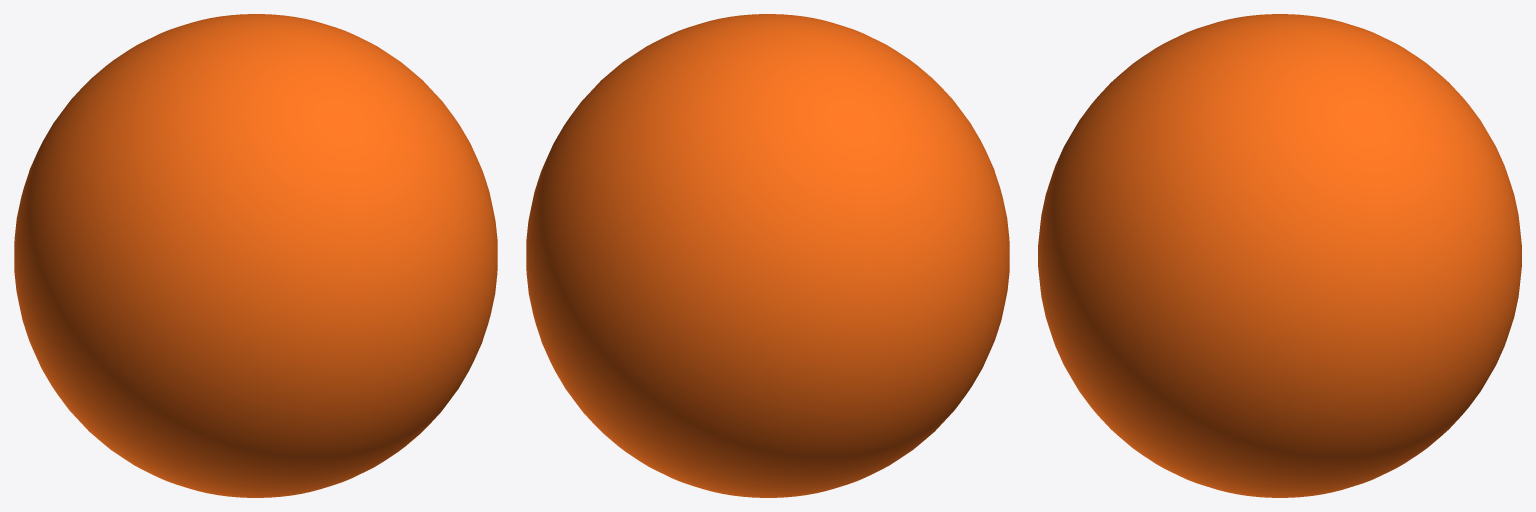
File: PayloadPathPoint.glb
3 views of the same model, side by side, from view 1: azimuth 30°, elevation 25°; view 2: azimuth 150°, elevation 25°; view 3: azimuth 270°, elevation 25° (orthographic).
Parts seen in each view (by area): view 1: Marker; view 2: Marker; view 3: Marker.
Part boxes in pixels (x1=…): Marker: x1=14, y1=14, x2=497, y2=497; Marker: x1=526, y1=14, x2=1009, y2=497; Marker: x1=1038, y1=14, x2=1521, y2=497.
Bounding box in the file's own units: 0.4994 × 0.5 × 0.4994.
